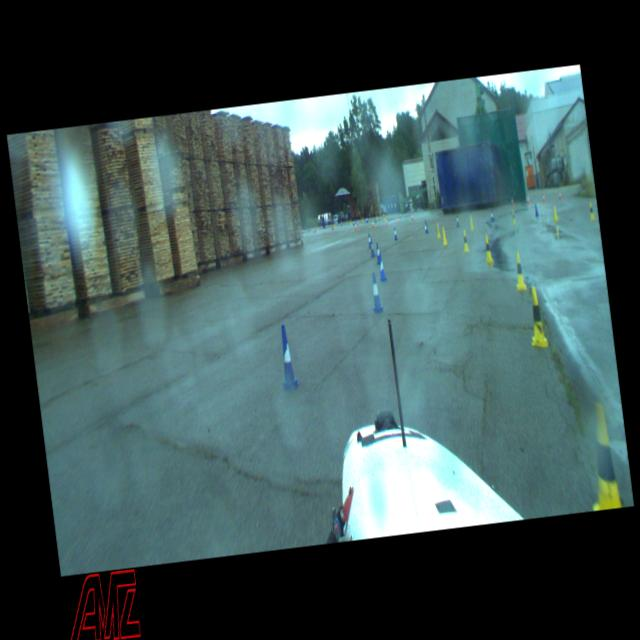blue_cone: (273, 324, 300, 390), (368, 272, 383, 312), (376, 252, 386, 280), (374, 242, 381, 264), (368, 238, 375, 256), (366, 232, 371, 248), (392, 226, 398, 239), (490, 209, 494, 222), (534, 202, 538, 215), (424, 220, 428, 232), (455, 214, 459, 226), (374, 215, 376, 222), (366, 215, 368, 222), (352, 219, 354, 226), (339, 220, 342, 224), (314, 226, 316, 232), (308, 226, 310, 232)
orange_cone: (558, 190, 562, 199), (526, 195, 530, 204), (384, 217, 388, 225), (511, 197, 514, 206), (411, 212, 414, 220), (371, 220, 374, 228), (354, 222, 357, 230), (542, 192, 544, 202), (397, 216, 399, 223), (356, 218, 358, 225), (331, 223, 333, 230), (312, 228, 314, 234)
yellow_cone: (580, 399, 622, 511), (524, 285, 548, 348), (512, 250, 527, 290), (482, 235, 493, 262), (461, 228, 470, 252), (440, 227, 447, 244), (588, 201, 594, 219), (434, 222, 440, 238), (552, 204, 558, 220), (468, 214, 474, 230), (510, 209, 516, 223), (382, 212, 386, 220), (349, 218, 352, 224), (316, 223, 318, 230), (376, 214, 378, 220), (361, 215, 363, 221), (333, 222, 335, 226)
